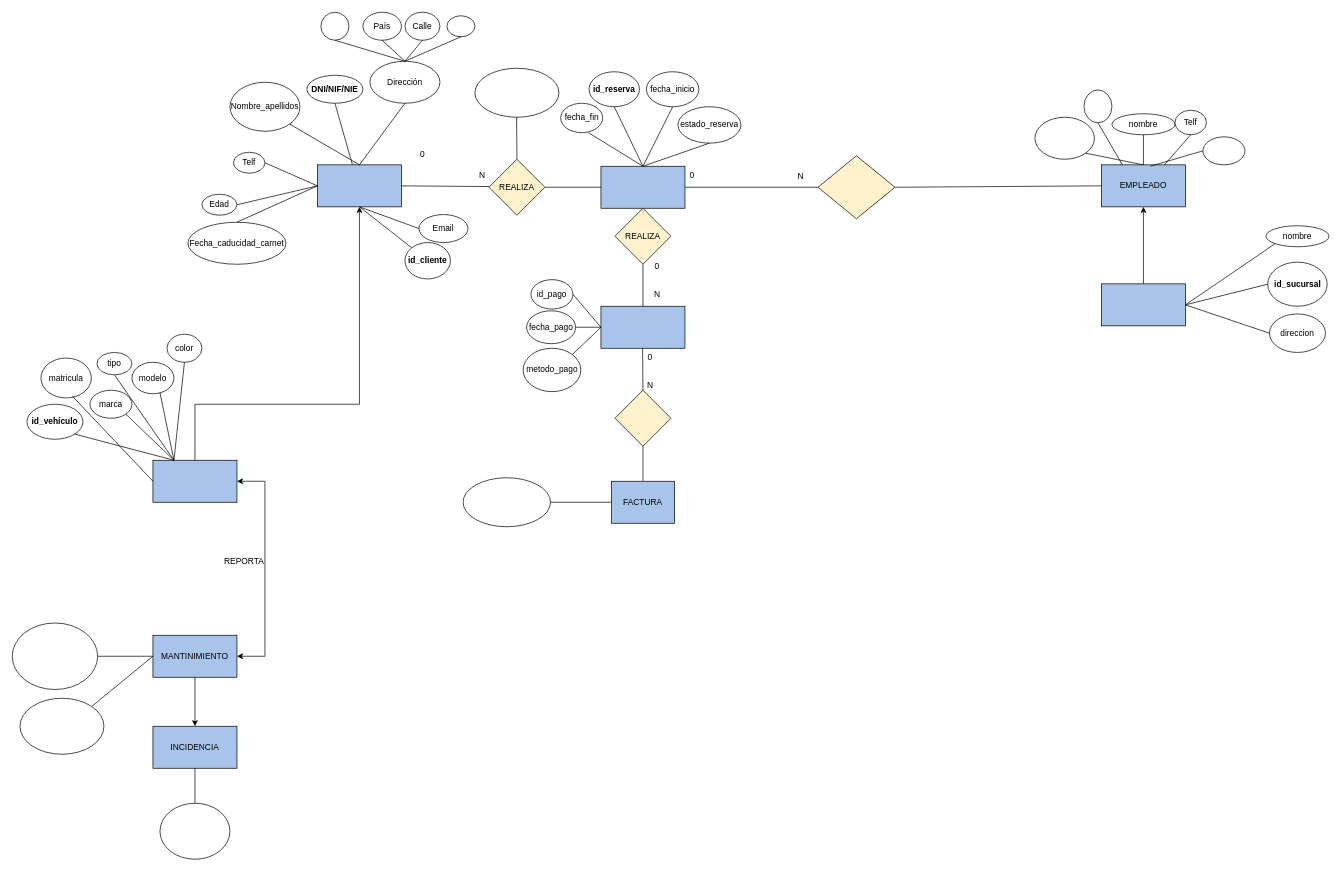
Image size: 1341x872. Some labels were removed from this diagram. The centre of each missing label's shape, as x and y in pixels:
"apellidos" goes at (x=1223, y=150).
"ciudad" goes at (x=334, y=26).
"CLIENTE" goes at (x=359, y=185).
"DNI" goes at (x=1097, y=106).
"GENERA" goes at (x=642, y=418).
"GESTIONADO" goes at (x=856, y=187).
"historial" goes at (x=61, y=726).
"Historial de alquiler" goes at (x=516, y=92).
"id_empleado" goes at (x=1064, y=138).
"id_factura" goes at (x=506, y=502).
"id_mantinimiento" goes at (x=55, y=656).
"id_reporta" goes at (x=194, y=831).
"Nº" goes at (x=460, y=26).
"PAGO" goes at (x=642, y=327).
"RESERVA" goes at (x=642, y=187).
"SUCURSAL" goes at (x=1143, y=304).
"VEHICULO" goes at (x=194, y=481).
